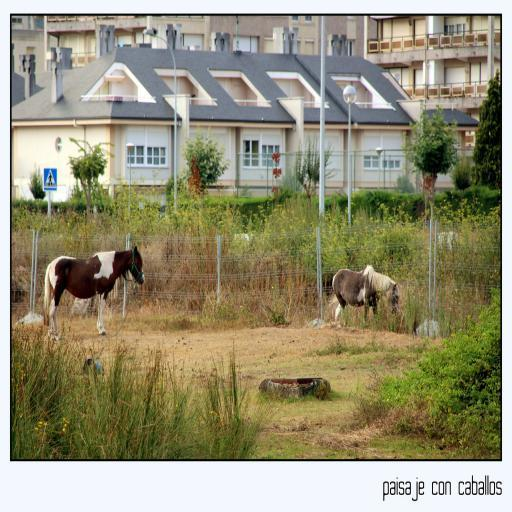horse: (41, 246, 145, 344), (330, 263, 398, 324)
